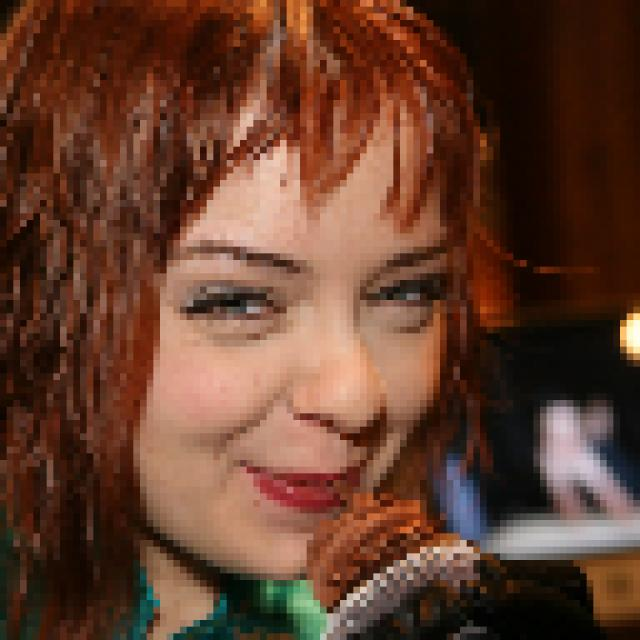happy: (59, 0, 482, 640)
